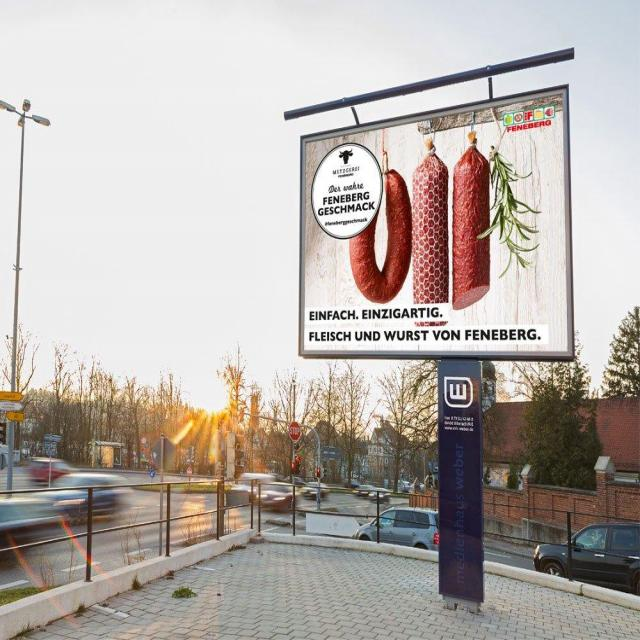Werbetafel frei: (289, 80, 588, 362)
